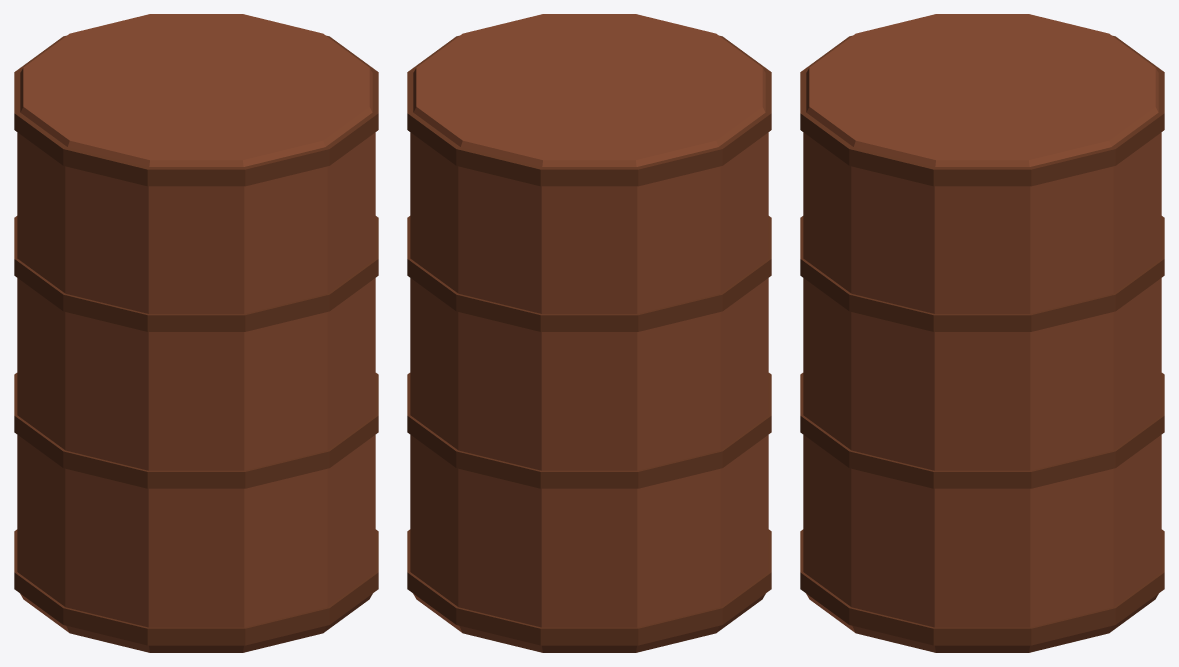
Rendered from oil_drum_rusty.glb.
The picture shows the model from 3 angles, left to right: view 1: azimuth 30°, elevation 25°; view 2: azimuth 150°, elevation 25°; view 3: azimuth 270°, elevation 25°; orthographic projection.
Visible parts, largest first — view 1: oil_drum_rusty; view 2: oil_drum_rusty; view 3: oil_drum_rusty.
Boxes of the visible parts, x1,y1,x2,y2 form: oil_drum_rusty: (14, 14, 378, 652); oil_drum_rusty: (407, 14, 771, 652); oil_drum_rusty: (800, 14, 1164, 652).
Bounding box in the file's own units: 0.5892 × 0.88 × 0.5892.
